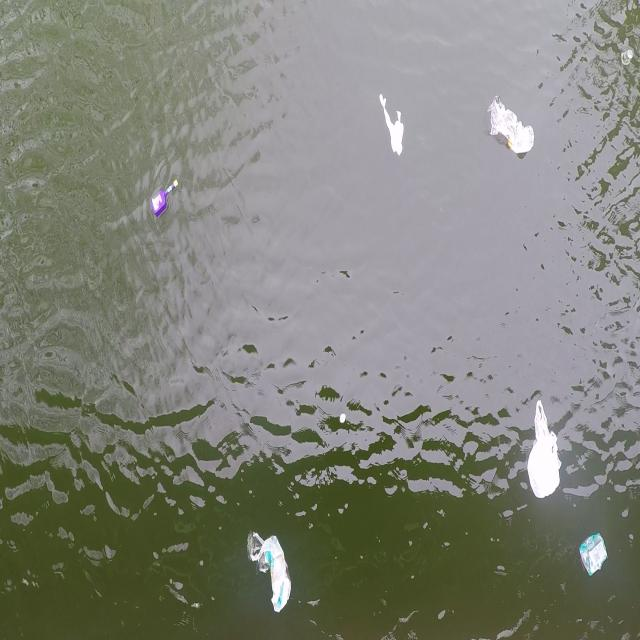Bouteille plastique: (148, 174, 181, 223)
Sac plastique: (243, 524, 297, 620), (521, 394, 565, 506), (479, 91, 540, 163), (377, 91, 406, 162)
